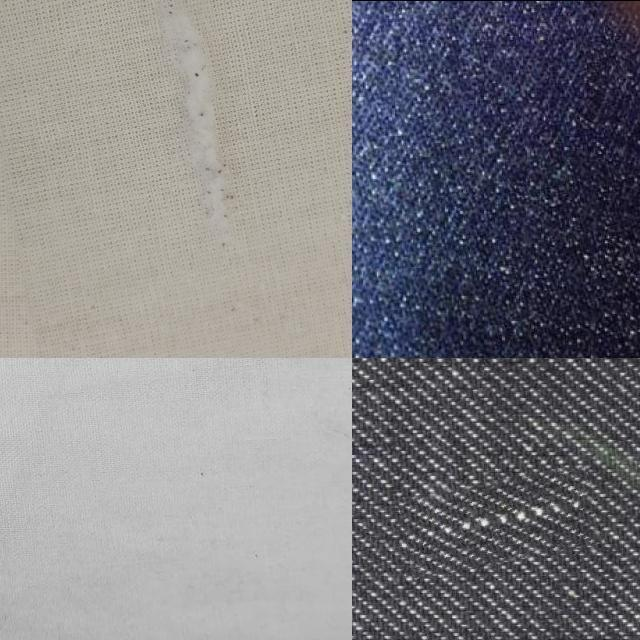Thread_other: (216, 358, 352, 528)
stains: (401, 472, 599, 570)
